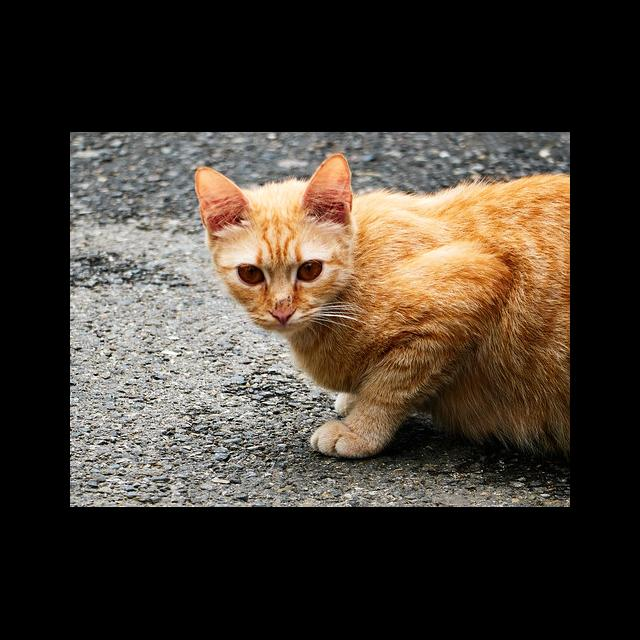animals: (194, 154, 570, 459)
